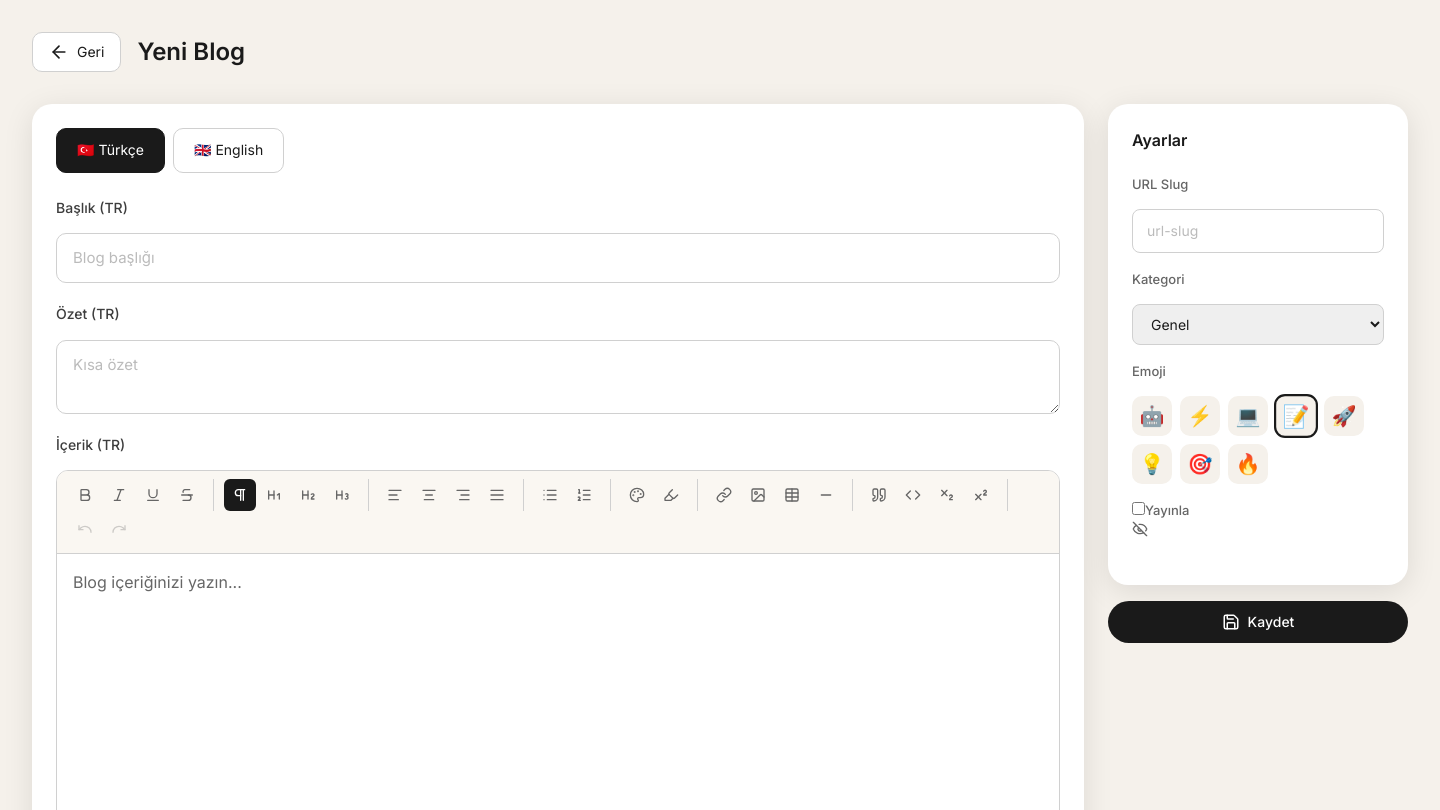
Test: BlogEditor › generates slug from title
In the field with placeholder "Blog başlığı": (558, 258) [56,233,1060,283], type "Yeni Blog Başlığı"
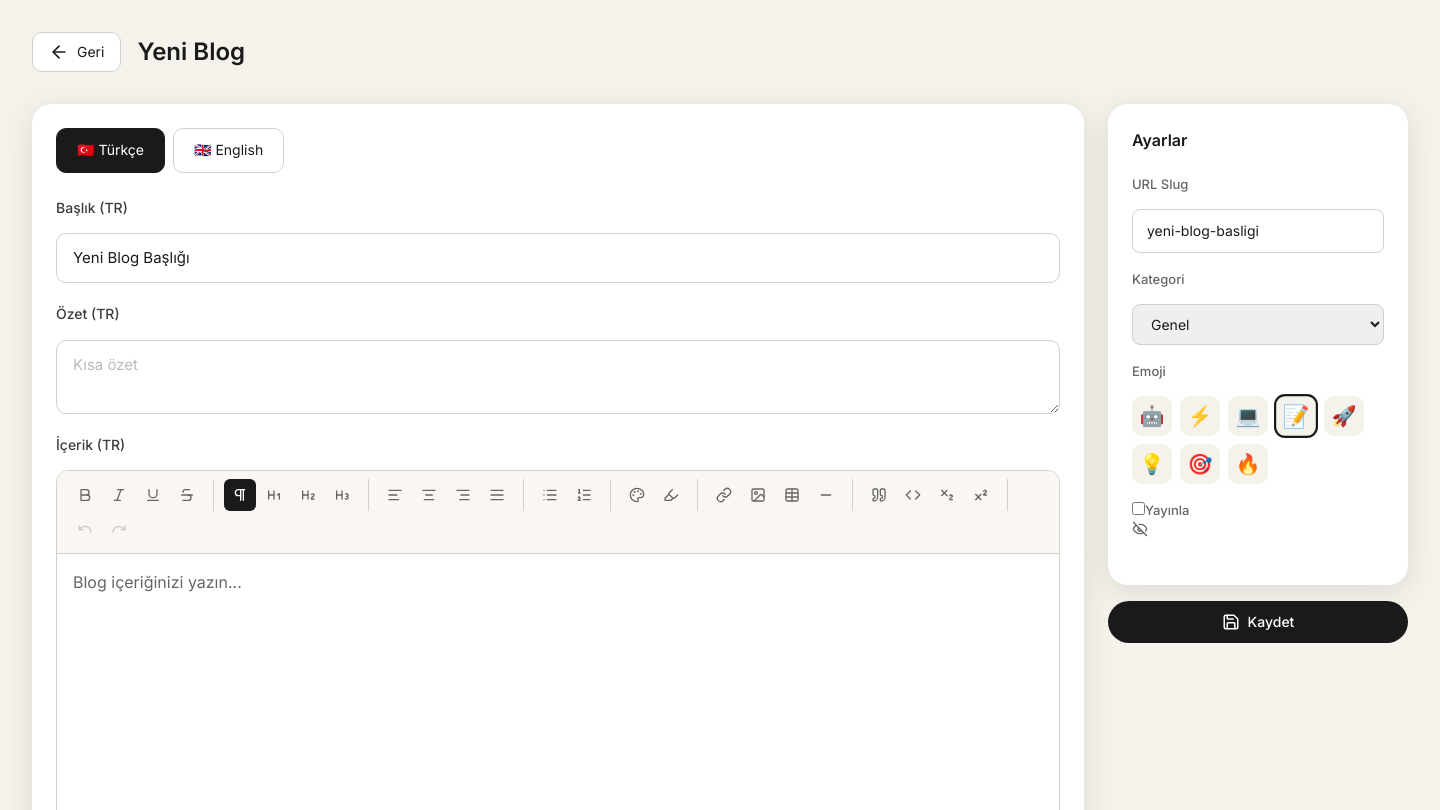
Result: the field with placeholder "url-slug" below "URL Slug" holds "yeni-blog-basligi" at [1132,209,1384,253]
